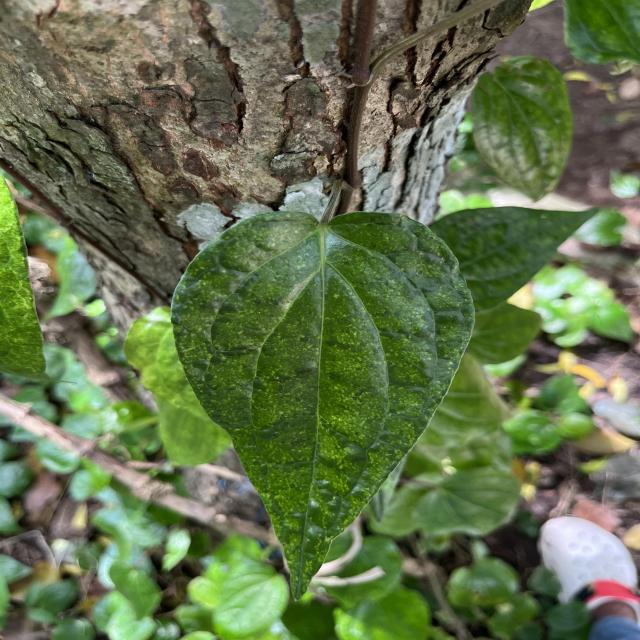Piper betle: (168, 205, 478, 606)
